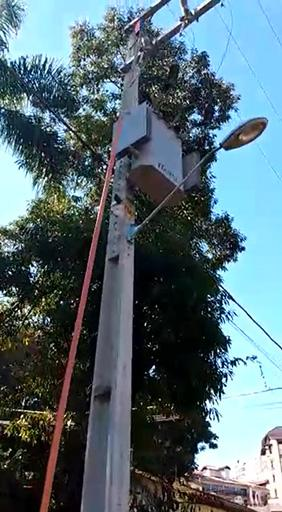Vara_Manobra: (38, 118, 123, 512)
